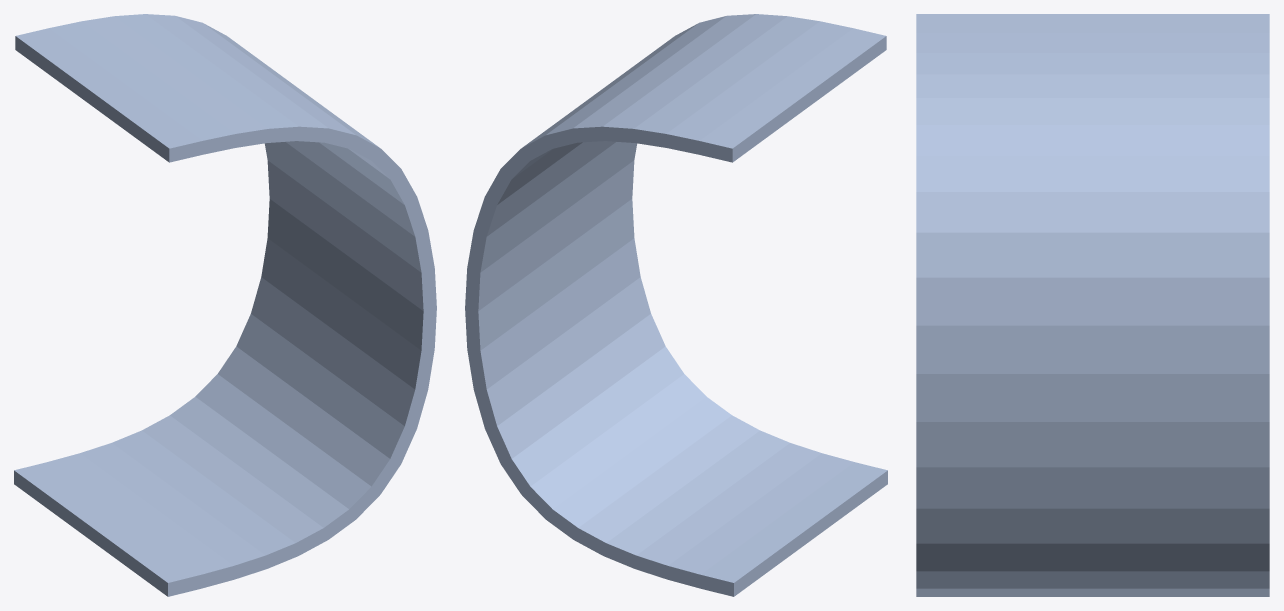
File: 180Ramp2.fbx
The picture shows the model from 3 angles, left to right: view 1: azimuth 30°, elevation 25°; view 2: azimuth 150°, elevation 25°; view 3: azimuth 270°, elevation 25°; orthographic projection. The views are drawn at different scales.
Parts seen in each view (by area): view 1: Plane; view 2: Plane; view 3: Plane.
Boxes of the visible parts, bbox=[...] form: Plane: bbox=[14, 14, 436, 596]; Plane: bbox=[465, 14, 887, 596]; Plane: bbox=[916, 14, 1269, 596].
Bounding box in the file's own units: 200 × 202 × 321.
